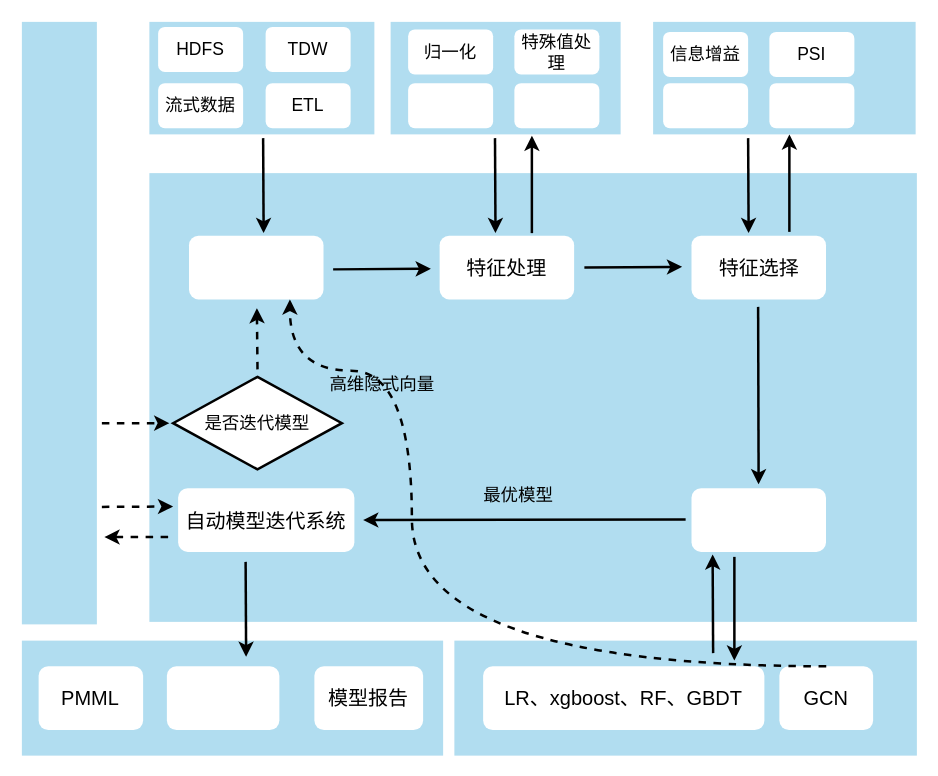
Image size: 938x776. Some labels were removed from this diagram. Each missing label, with the centre of its shape:
"IV" belongs at [811,105].
"去相关性" belongs at [705,105].
"多模型训练" belongs at [758,519].
"平滑" belongs at [556,105].
"特征库" belongs at [255,267].
"监控 熔断 报警" belongs at [58,322].
"离散化" belongs at [450,105].
"自动配置" belongs at [222,697].
